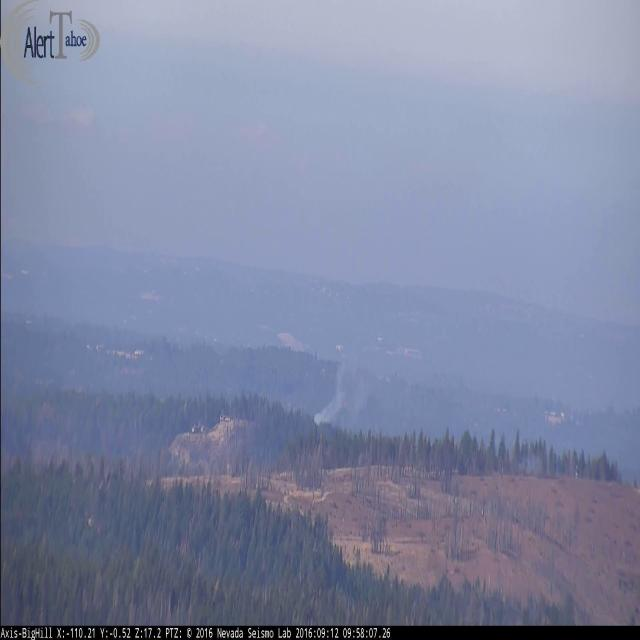smoke: (314, 348, 501, 432)
